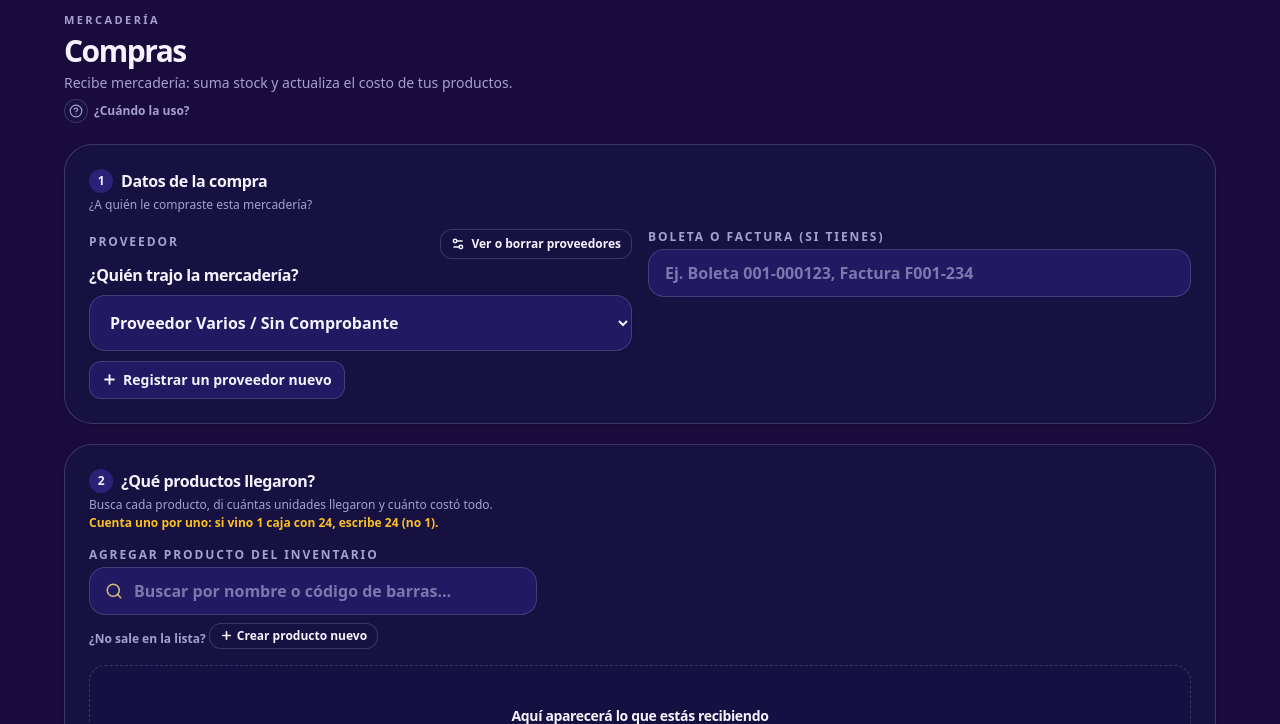
Test: PurchasesPage › crea un proveedor y lo selecciona automáticamente
The width and height of the screenshot is (1280, 724).
Expected: the heading "1 Datos de la compra" is shown, [89,168,267,192]
Click the button "Registrar un proveedor nuevo" at point(217, 380), box [89,360,345,398]
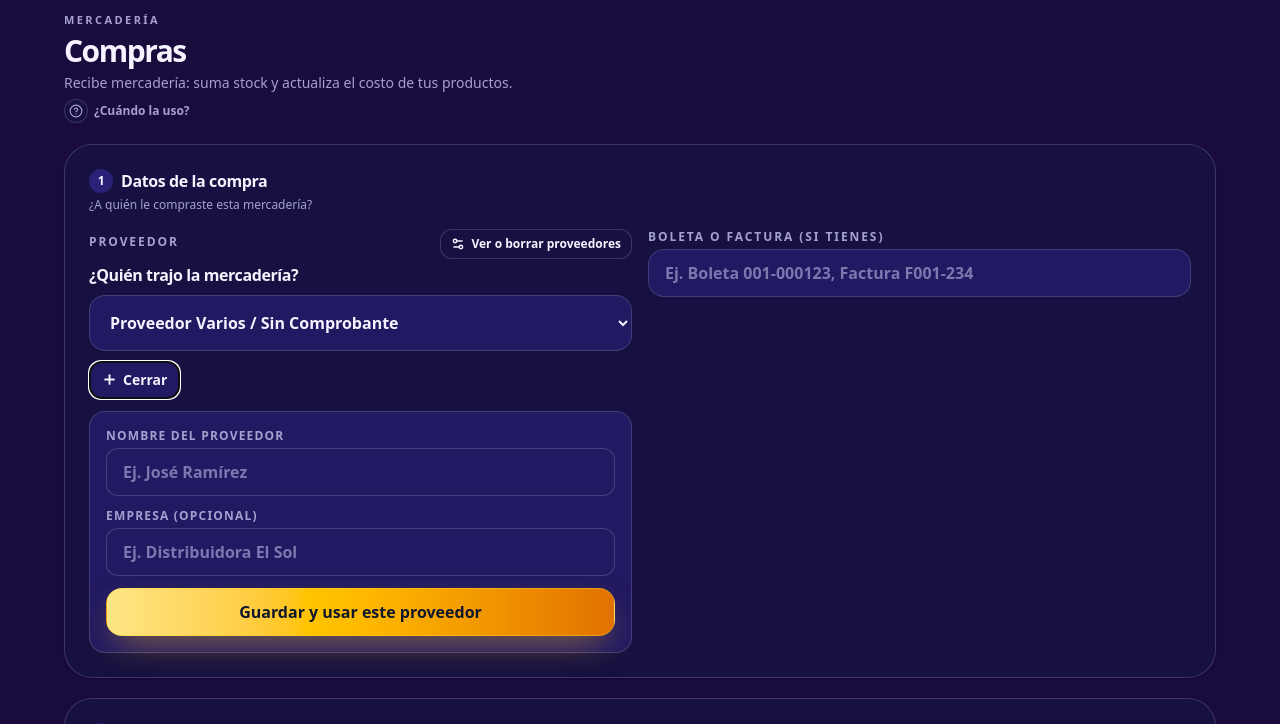
Type "Proveedor Nuevo" into the field labelled "Nombre del proveedor" at point(360, 472), box [106,448,615,496]
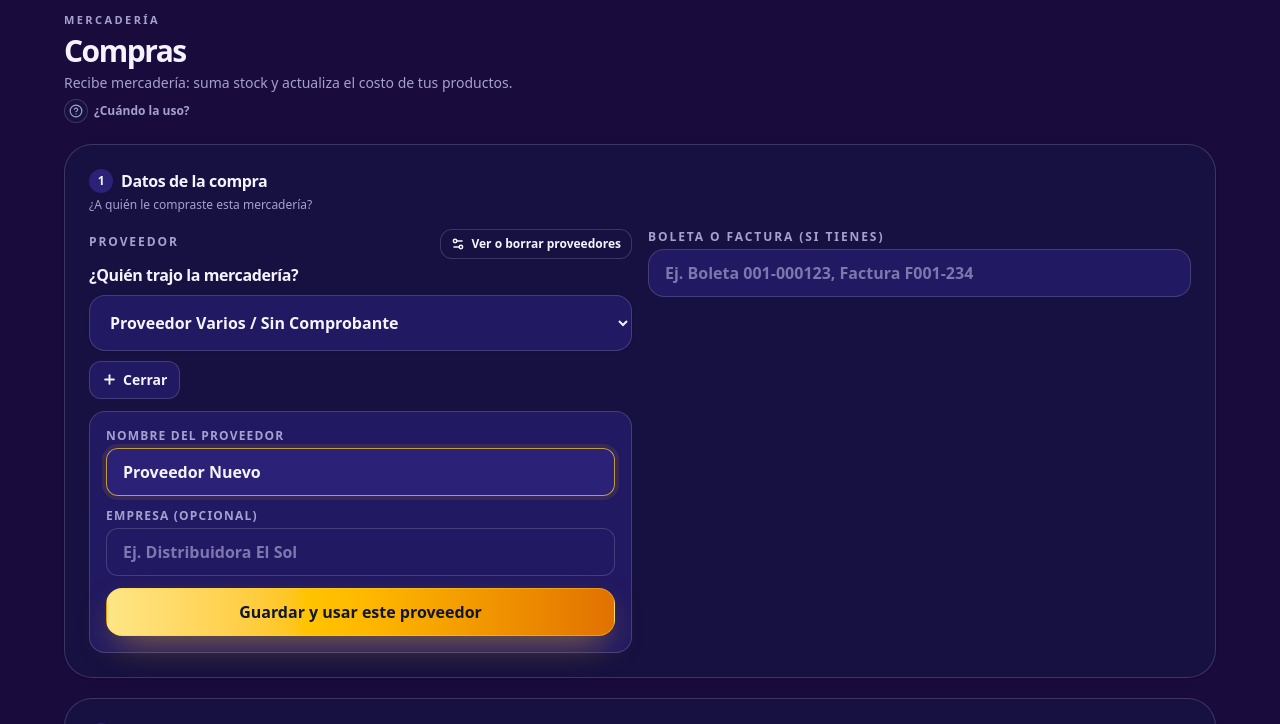
Type "Comercial Nueva" into the field labelled "Empresa (opcional)" at point(360, 552), box [106,528,615,576]
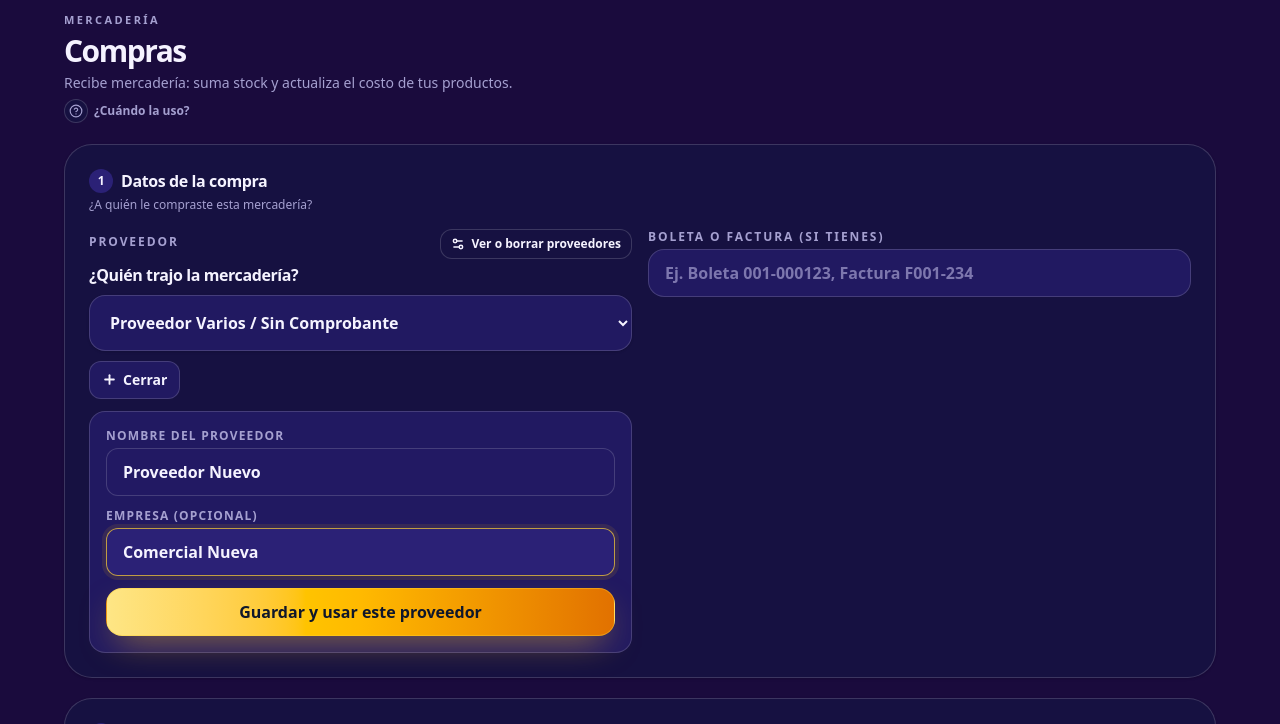
Click the button "Guardar y usar este proveedor" at point(360, 612), box [106,588,615,636]
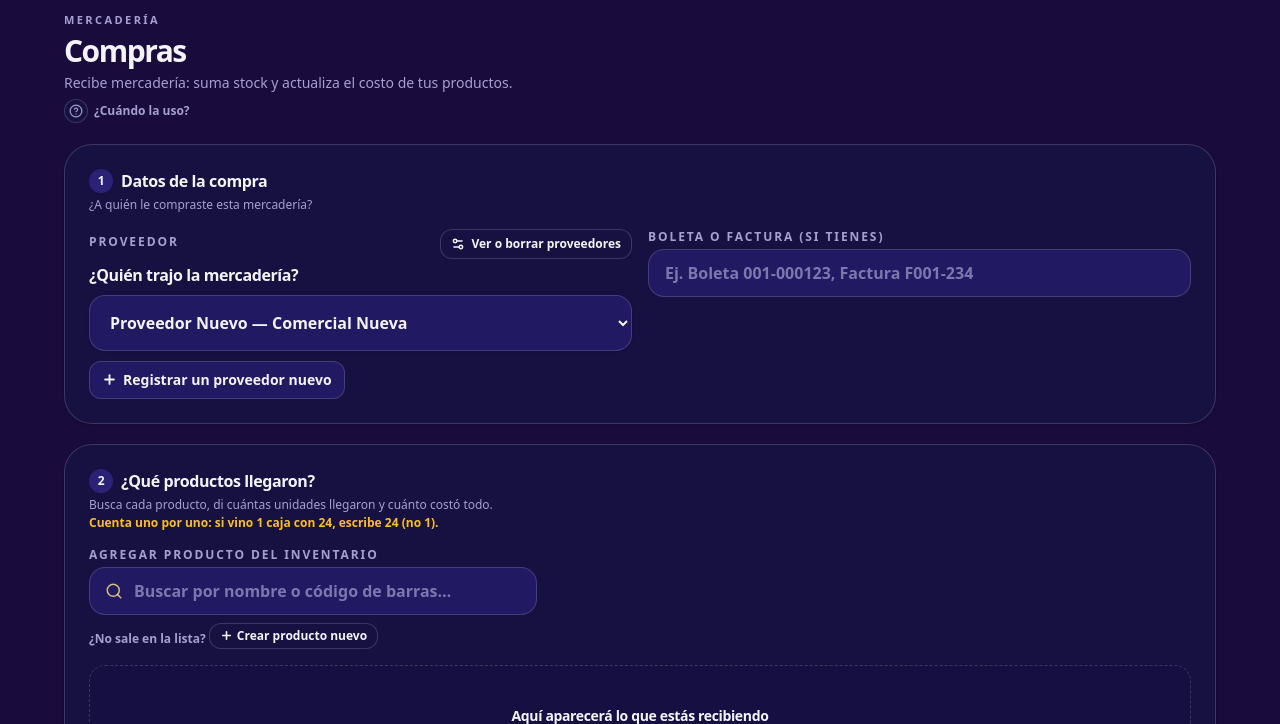
Now the dropdown labelled "¿Quién trajo la mercadería?" shows "Proveedor Nuevo — Comercial Nueva", box [89,294,632,350]
